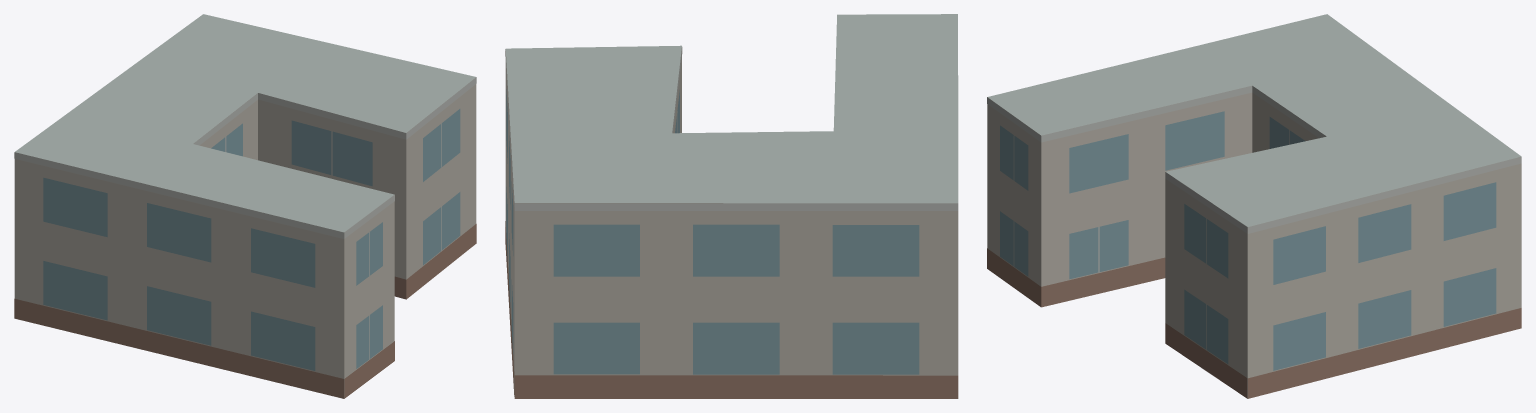
File: survey-upis-32768167.glb
3 renders of one model, left to right at view 1: azimuth 30°, elevation 25°; view 2: azimuth 150°, elevation 25°; view 3: azimuth 270°, elevation 25°, orthographic. The views are drawn at different scales.
Parts seen in each view (by area): view 1: survey-upis-32768167.tmp; view 2: survey-upis-32768167.tmp; view 3: survey-upis-32768167.tmp.
Part boxes in pixels (x1,y1,x2,y2): survey-upis-32768167.tmp: (14, 14, 476, 398); survey-upis-32768167.tmp: (505, 14, 958, 398); survey-upis-32768167.tmp: (987, 14, 1521, 398).
Size of the model in its own units: 16.25 by 6.1 by 17.22.
